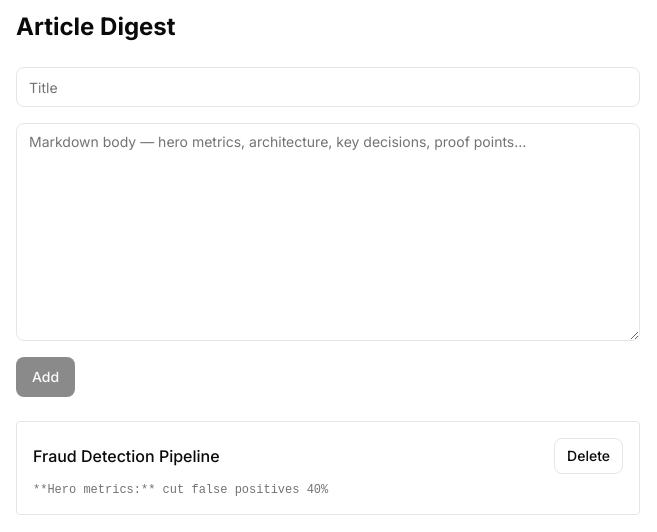
Scenario: Article Digest page (app/article-digest/page.tsx) › clicking Delete on an entry removes it from the rendered list
Expected: the heading "Fraud Detection Pipeline" is shown, [33,444,220,468]
Click the button "Delete". click: (589, 456)
box: [554,438,623,474]
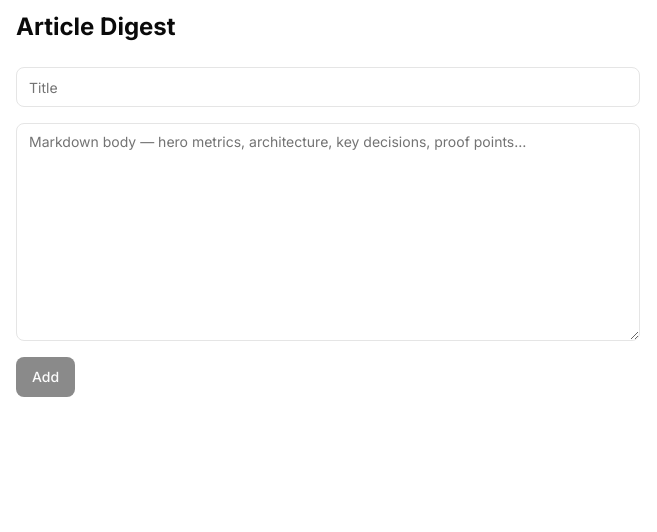
Result: the heading "Fraud Detection Pipeline" is gone
